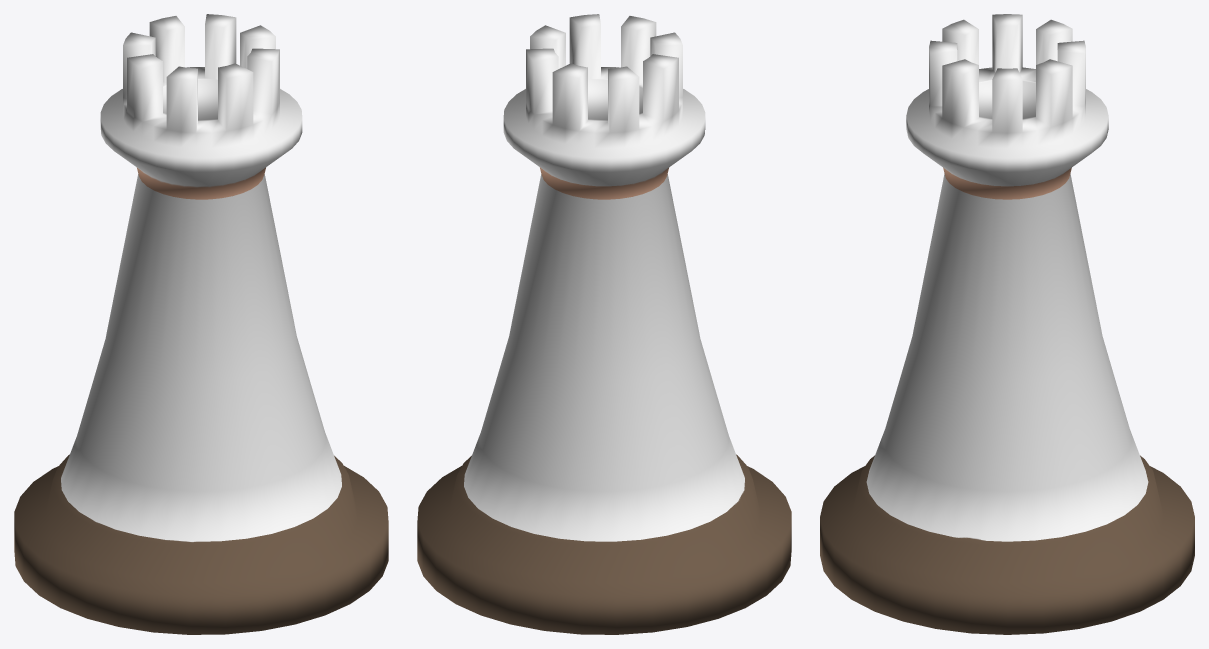
File: Rook.gltf
The picture shows the model from 3 angles, left to right: view 1: azimuth 30°, elevation 25°; view 2: azimuth 150°, elevation 25°; view 3: azimuth 270°, elevation 25°; orthographic projection.
Visible parts, largest first — view 1: ルーク; view 2: ルーク; view 3: ルーク.
Part boxes in pixels (x1,y1,x2,y2): ルーク: [14, 14, 388, 634]; ルーク: [417, 14, 791, 634]; ルーク: [820, 14, 1194, 634].
Bounding box in the file's own units: 0.8681 × 1.3 × 0.8681.
Materials: 1 (1 with a texture image).
